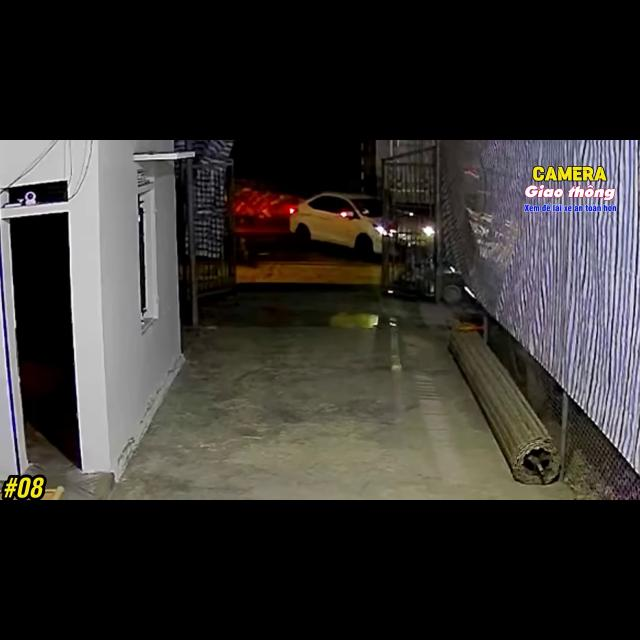car: (290, 193, 433, 255)
